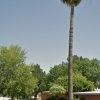Tree: (35, 41, 100, 92)
